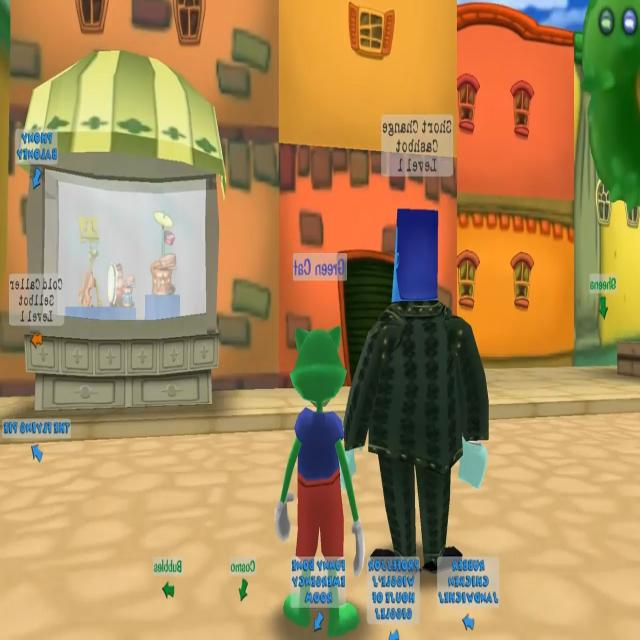shortchange: (344, 208, 488, 570)
